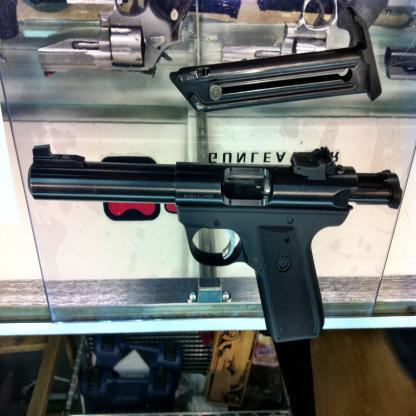Handgun: (26, 145, 399, 342)
